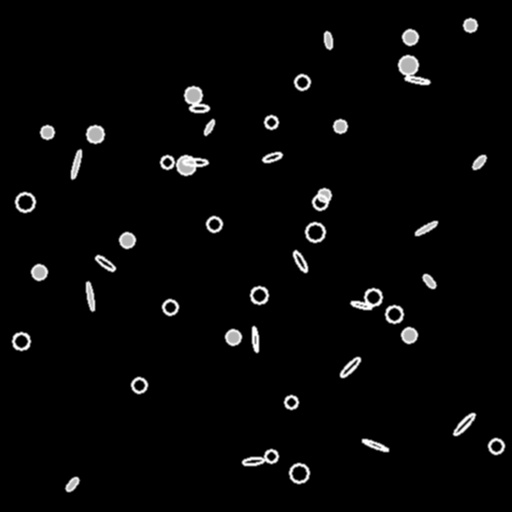pseudomonas: (452, 411, 476, 437), (339, 356, 361, 378), (291, 249, 309, 273), (94, 254, 116, 272), (414, 220, 438, 236), (362, 438, 388, 452), (70, 149, 82, 179), (85, 281, 95, 311), (471, 153, 487, 171), (404, 75, 430, 85), (421, 273, 437, 289), (65, 476, 79, 492), (350, 300, 372, 310), (263, 152, 281, 163), (183, 158, 207, 166), (203, 119, 215, 135), (251, 327, 259, 351), (242, 457, 264, 465), (323, 32, 333, 48), (190, 105, 208, 112)
synechocystis: (16, 193, 34, 211), (290, 464, 308, 482), (399, 56, 417, 74), (177, 156, 195, 174), (306, 223, 324, 241), (13, 333, 29, 349), (87, 126, 103, 142), (185, 87, 201, 103), (386, 306, 402, 322), (365, 289, 381, 305), (251, 287, 267, 303), (207, 217, 221, 231), (295, 75, 309, 89), (32, 265, 46, 279), (403, 30, 417, 44), (402, 328, 416, 342), (120, 233, 134, 247), (226, 330, 240, 344), (132, 378, 146, 392), (313, 195, 327, 209), (163, 300, 177, 314), (489, 439, 503, 453), (464, 19, 476, 31), (334, 120, 346, 132), (285, 396, 297, 408), (265, 116, 277, 128), (318, 189, 330, 201), (41, 126, 53, 138), (265, 450, 277, 462), (161, 156, 173, 168)
